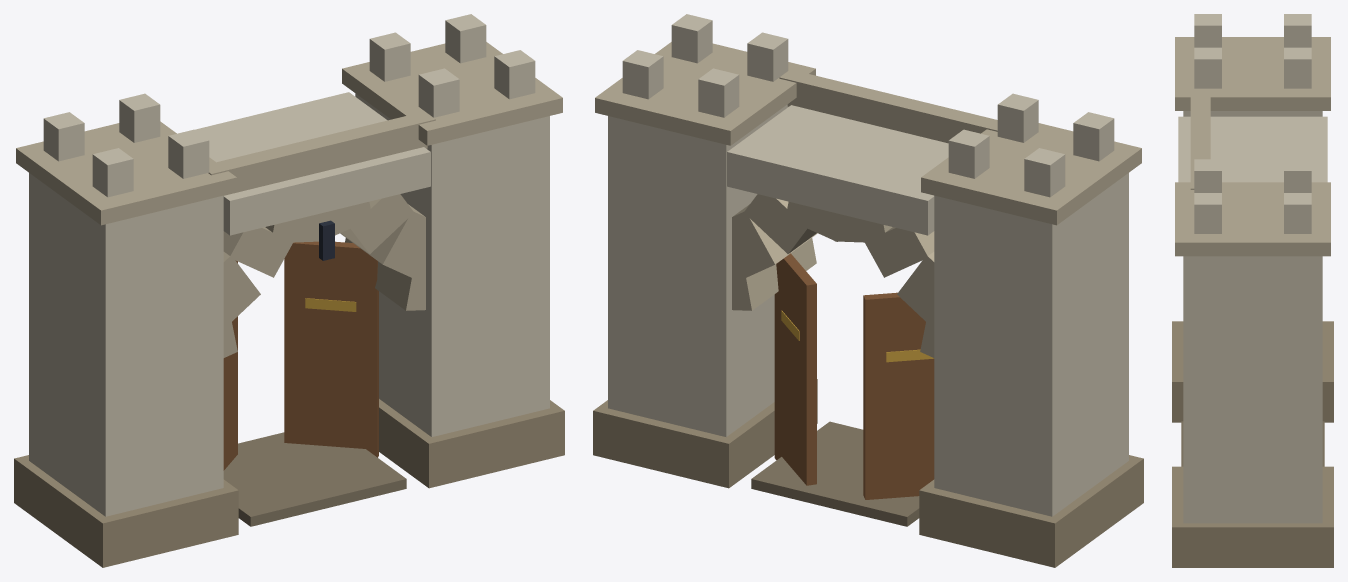
The model's file is european-gate.glb.
3 renders of one model, left to right at view 1: azimuth 30°, elevation 25°; view 2: azimuth 150°, elevation 25°; view 3: azimuth 270°, elevation 25°, orthographic. The views are drawn at different scales.
Parts seen in each view (by area): view 1: body; view 2: body; view 3: body.
Part boxes in pixels (left/top/right/bottom): body: left=14, top=14, right=564, bottom=567; body: left=593, top=14, right=1143, bottom=567; body: left=1172, top=14, right=1333, bottom=567.
Bounding box in the file's own units: 3.91 × 3.15 × 1.3.
